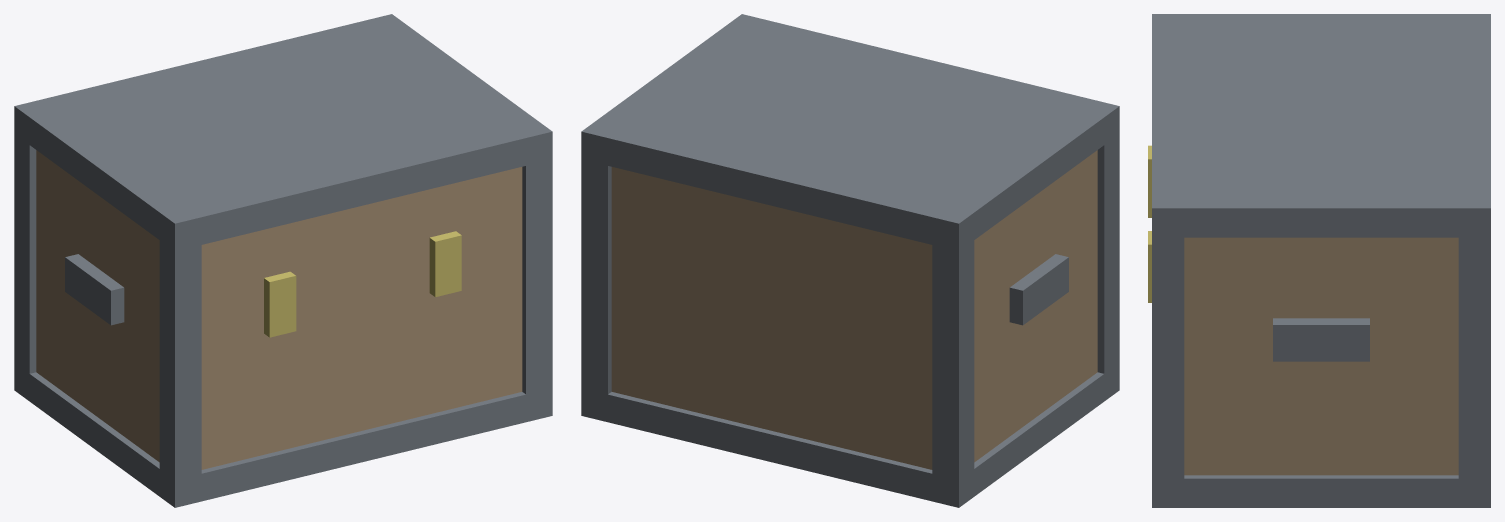
Rendered from Loot_Crate.glb.
The picture shows the model from 3 angles, left to right: view 1: azimuth 30°, elevation 25°; view 2: azimuth 150°, elevation 25°; view 3: azimuth 270°, elevation 25°; orthographic projection. The views are drawn at different scales.
Size of the model in its own units: 1.18 by 0.82 by 0.85.
